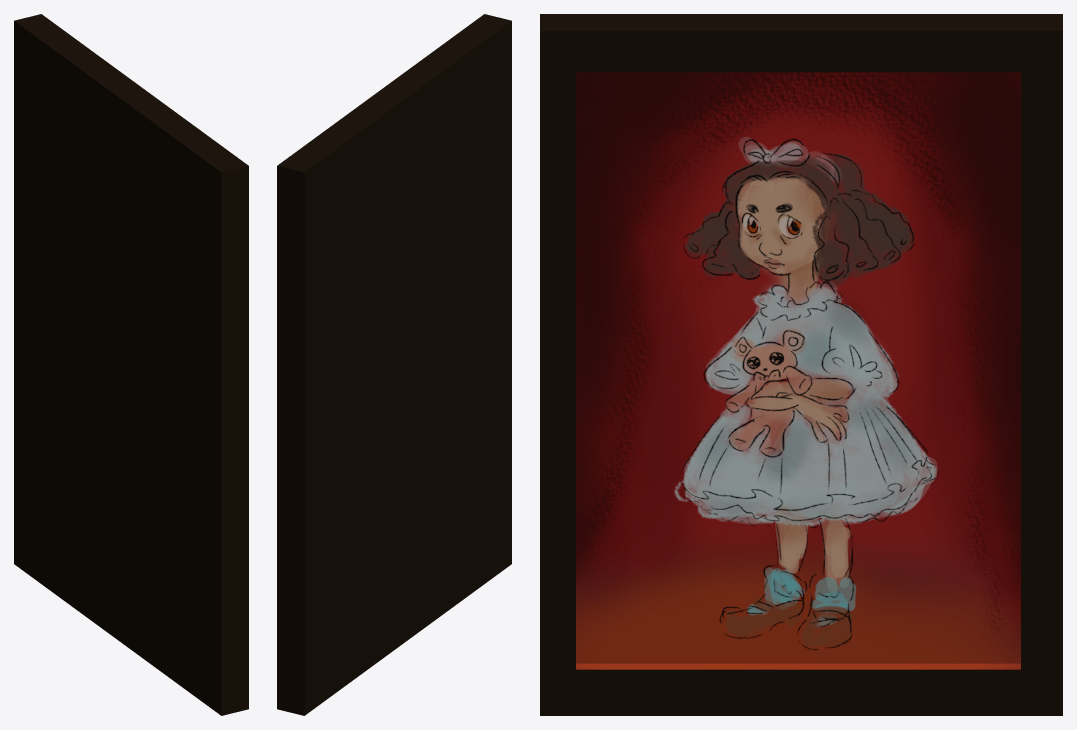
File: Painting5.fbx
The picture shows the model from 3 angles, left to right: view 1: azimuth 30°, elevation 25°; view 2: azimuth 150°, elevation 25°; view 3: azimuth 270°, elevation 25°; orthographic projection. The views are drawn at different scales.
Visible parts, largest first — view 1: Cube; view 2: Cube; view 3: Cube.
Part boxes in pixels (x1,y1,x2,y2): Cube: (14, 14, 248, 715); Cube: (277, 14, 511, 715); Cube: (540, 14, 1062, 715).
Size of the model in its own units: 18.71 by 355 by 245.
